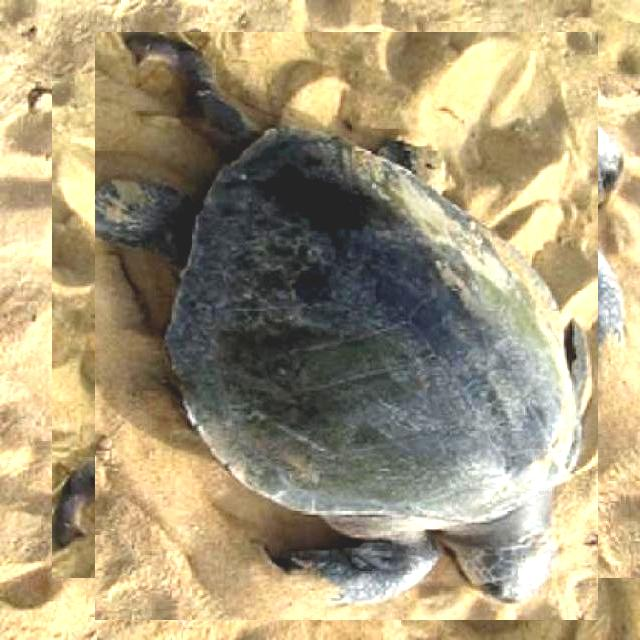Sea turtle: (73, 53, 619, 599)
